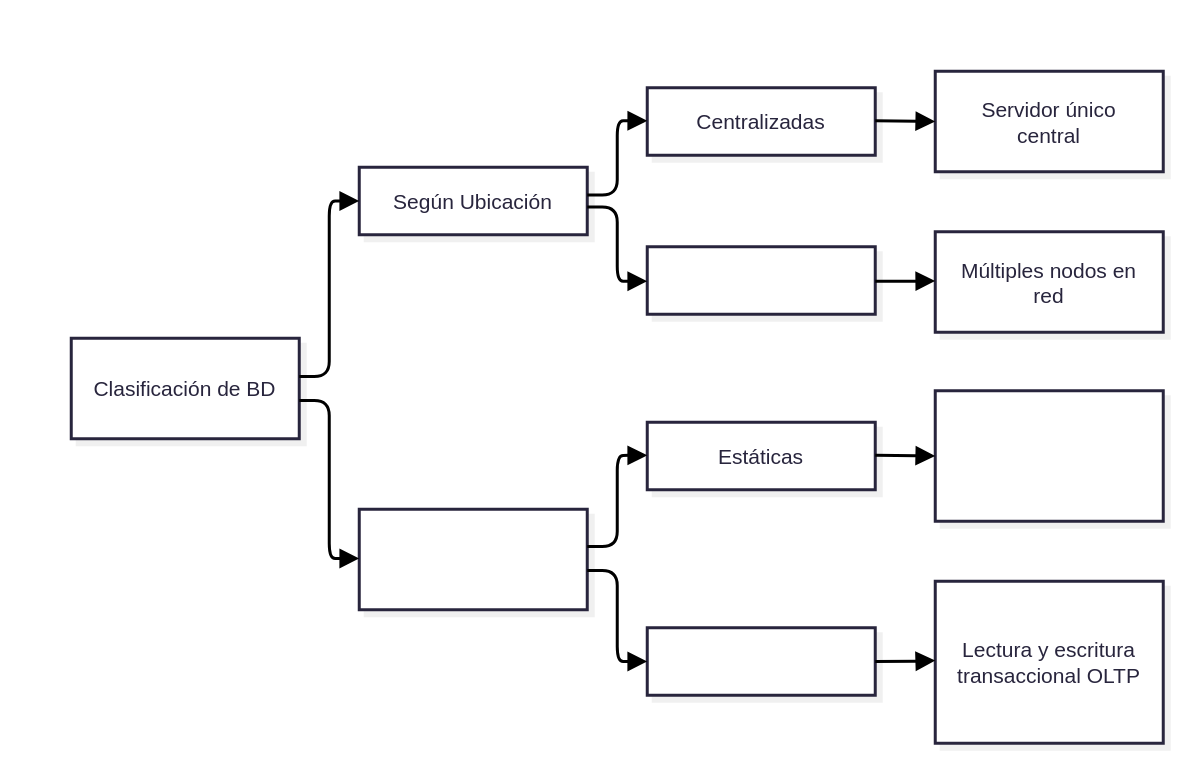
This 1196x776 diagram has some shape labels left out. Here are the shapes that lost their labels. From the top down, the centre of each, then its label:
At pixel 763 282: "Distribuidas".
At pixel 1051 458: "Solo lectura / Análisis histórico OLAP".
At pixel 475 561: "Según Variabilidad".
At pixel 763 664: "Dinámicas".
